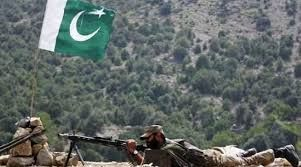gun: (53, 126, 146, 154)
uniform: (130, 120, 284, 167)
